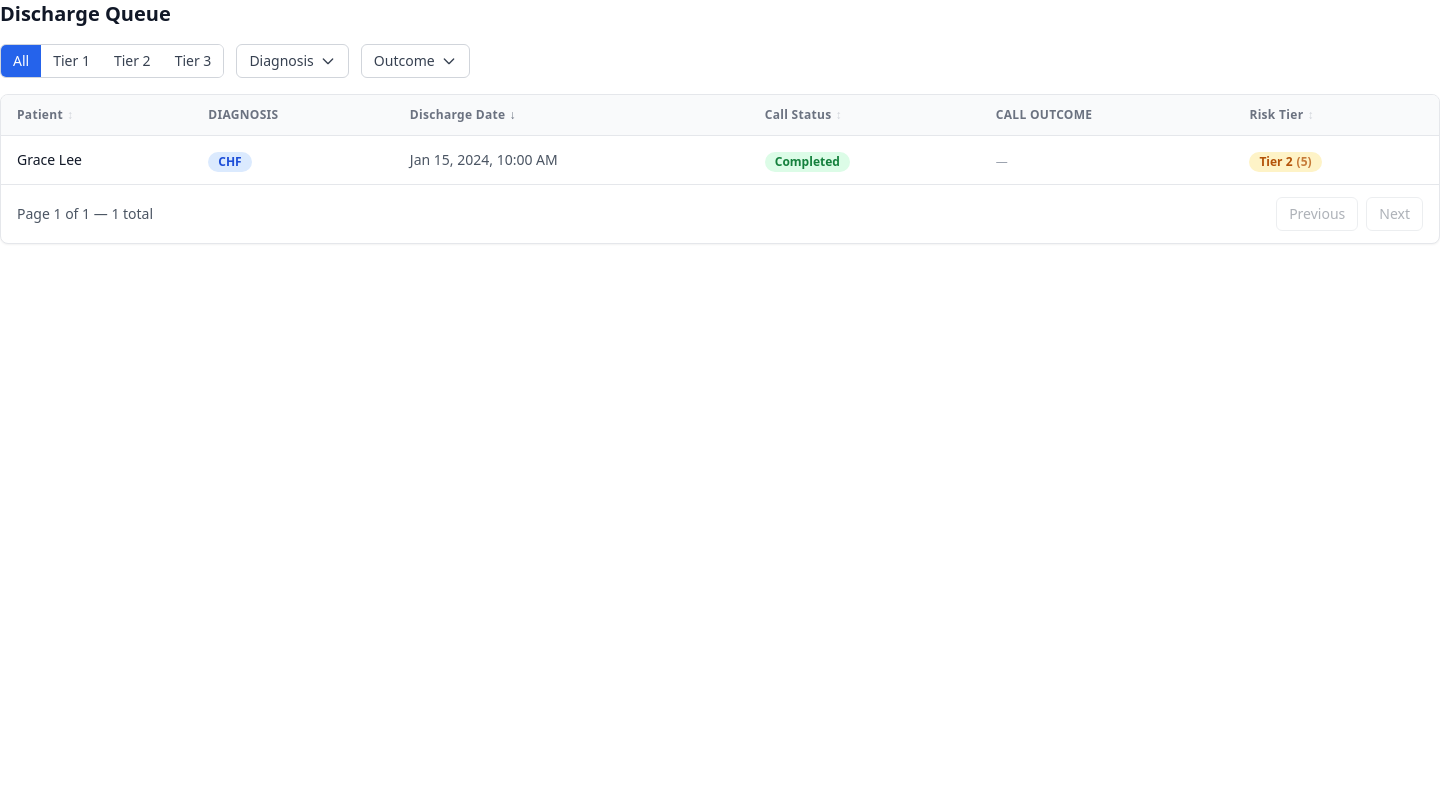
Scenario: 18.9 – Slide-out drawer keyboard behavior › Close button inside drawer is keyboard accessible
Expected: the text "Grace Lee" is shown, [1, 136, 192, 184]
Click the text "Grace Lee" at (49, 160), box [1, 136, 1439, 184]
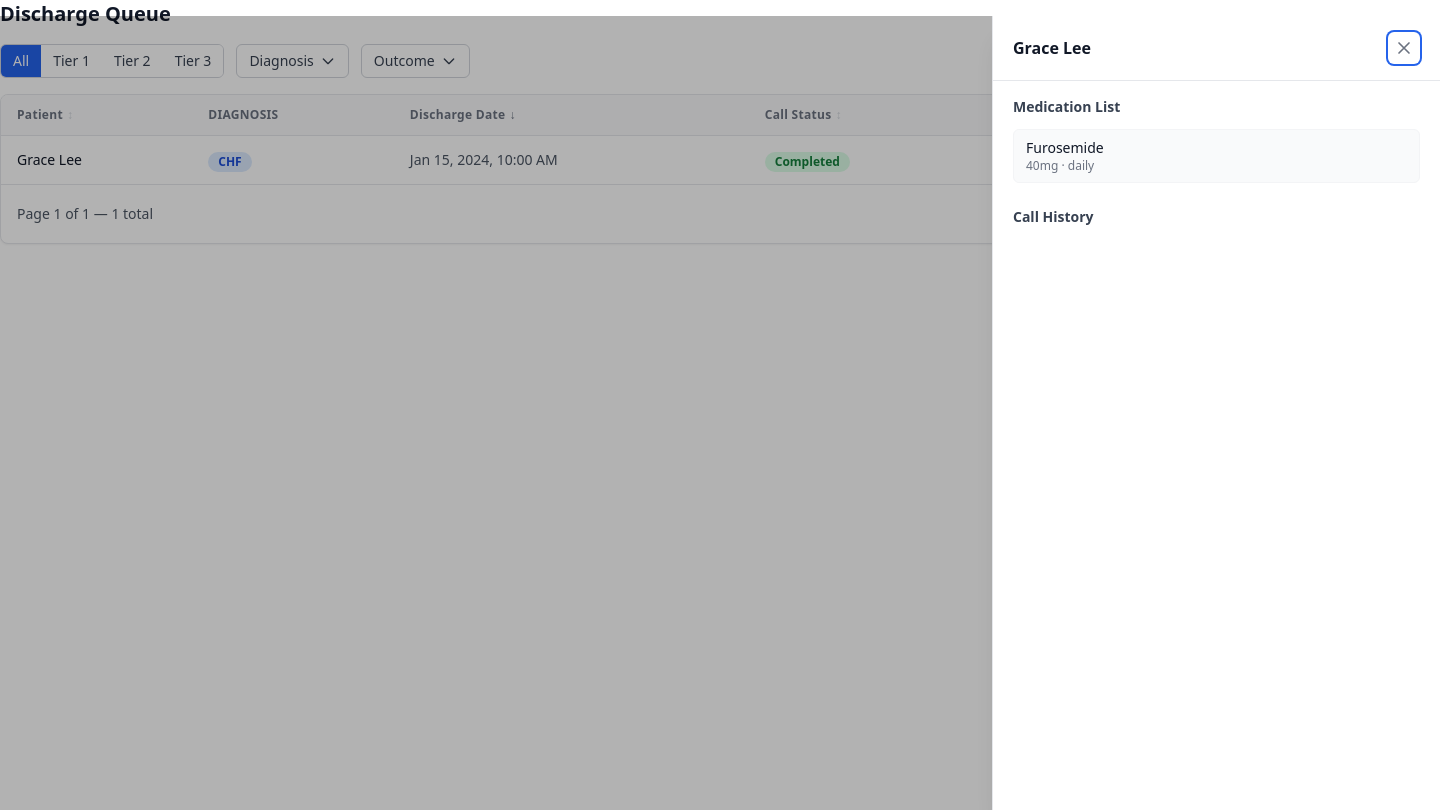
Result: the dialog is shown at [992, 16, 1439, 809]
Press Enter
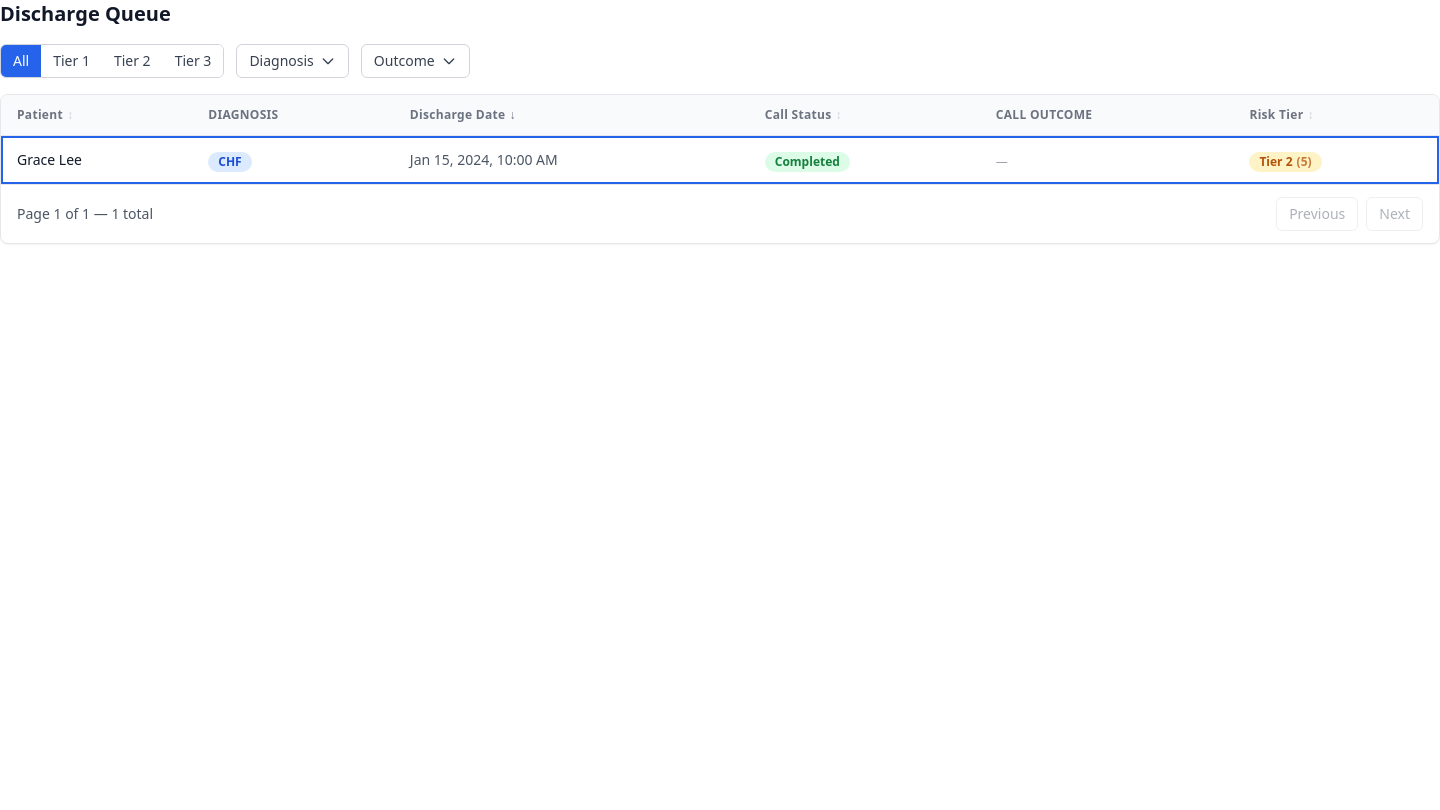
Result: the dialog is gone
